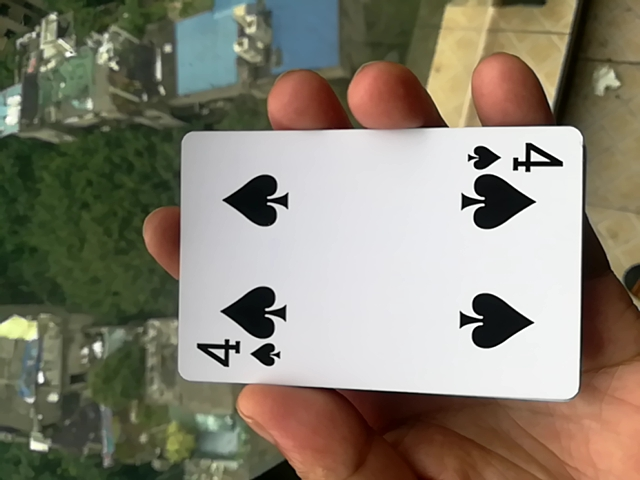ht 4: (162, 127, 575, 407)
